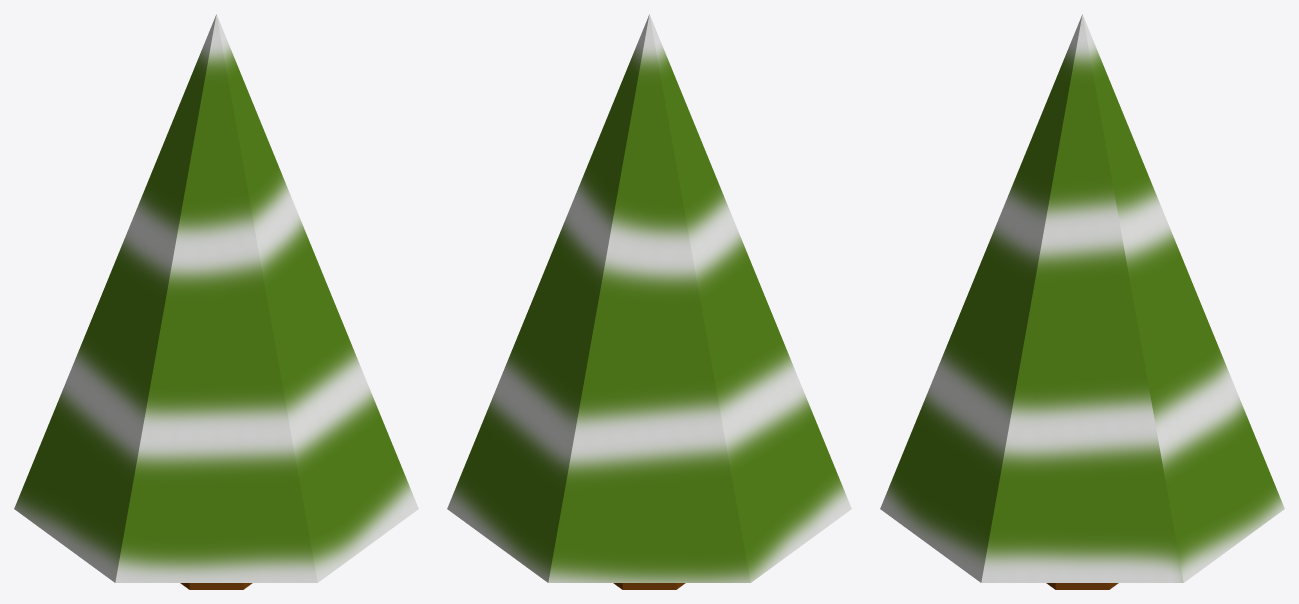
Rendered from arbre-petit.fbx.
3 renders of one model, left to right at view 1: azimuth 30°, elevation 25°; view 2: azimuth 150°, elevation 25°; view 3: azimuth 270°, elevation 25°, orthographic.
Visible parts, largest first — view 1: Cone; view 2: Cone; view 3: Cone.
Boxes of the visible parts, x1,y1,x2,y2 form: Cone: (14,14,418,589); Cone: (447,14,851,589); Cone: (880,14,1284,589).
Size of the model in its own units: 173 by 303 by 200.
